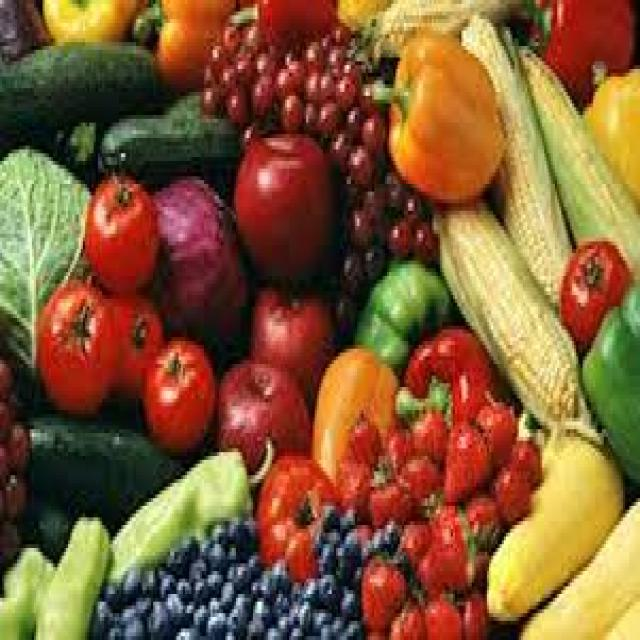organic waste: (432, 195, 595, 437), (459, 12, 570, 306), (514, 38, 638, 268), (485, 429, 623, 625), (104, 433, 270, 575), (366, 27, 504, 195), (28, 414, 194, 552), (0, 142, 89, 391), (153, 176, 249, 353), (519, 494, 638, 636), (96, 84, 240, 200), (0, 38, 153, 142), (232, 123, 334, 268), (306, 345, 396, 483), (580, 276, 638, 483), (351, 253, 451, 372), (215, 352, 312, 472), (525, 0, 633, 107), (34, 276, 115, 414), (396, 322, 500, 429), (253, 448, 336, 582), (249, 280, 336, 402), (81, 169, 159, 299), (32, 510, 108, 636), (130, 0, 234, 92), (138, 333, 215, 456), (580, 57, 638, 211), (102, 288, 164, 422), (557, 234, 629, 349), (368, 0, 510, 46), (0, 540, 55, 636), (225, 0, 334, 42), (43, 0, 138, 46), (442, 414, 485, 502), (427, 502, 472, 586), (362, 556, 406, 636), (489, 448, 529, 518), (0, 0, 49, 57), (477, 395, 512, 460), (462, 487, 498, 548), (368, 471, 406, 525), (332, 0, 396, 31), (412, 410, 448, 464), (402, 452, 442, 498), (350, 414, 380, 467), (332, 472, 368, 514), (423, 594, 459, 636), (389, 594, 423, 636), (457, 582, 485, 632), (385, 210, 412, 260), (2, 468, 28, 518), (512, 441, 542, 483), (66, 122, 93, 168), (378, 165, 404, 211), (361, 184, 387, 230), (342, 200, 370, 242), (385, 426, 410, 472), (417, 552, 444, 594), (338, 448, 370, 483), (8, 418, 30, 468), (400, 514, 425, 556), (249, 72, 270, 122), (223, 84, 249, 123), (349, 142, 372, 184), (0, 521, 21, 567), (363, 100, 382, 150), (412, 214, 434, 256), (363, 238, 385, 280), (327, 126, 349, 168), (223, 510, 245, 552), (402, 184, 425, 222), (278, 88, 302, 123), (342, 54, 362, 92), (342, 253, 364, 287), (138, 567, 162, 598), (336, 287, 355, 326), (317, 567, 336, 606), (147, 598, 166, 636), (166, 586, 183, 628), (251, 590, 270, 625), (340, 583, 362, 613), (225, 606, 247, 636), (204, 537, 226, 567), (204, 606, 226, 636), (0, 391, 13, 441), (285, 54, 302, 92), (232, 560, 251, 594), (336, 532, 359, 560), (117, 613, 145, 636), (346, 103, 364, 138), (326, 42, 344, 77), (232, 50, 253, 80), (380, 517, 398, 552), (122, 563, 140, 598), (334, 19, 351, 54), (158, 567, 175, 602), (255, 46, 277, 73), (230, 586, 251, 614), (336, 69, 351, 107), (242, 19, 262, 46), (217, 61, 234, 92), (255, 567, 272, 598), (317, 65, 332, 100), (342, 610, 362, 636), (207, 42, 226, 69), (202, 84, 221, 111), (317, 96, 334, 126), (302, 92, 317, 126), (302, 579, 319, 609), (270, 552, 287, 582), (304, 57, 317, 96), (180, 532, 198, 560), (342, 525, 358, 556), (289, 602, 308, 628), (132, 590, 153, 613), (92, 602, 108, 632), (276, 602, 290, 636), (104, 578, 121, 606), (274, 61, 287, 96), (221, 19, 234, 54), (247, 613, 266, 636), (202, 567, 221, 590), (362, 529, 378, 556), (204, 536, 219, 564), (166, 544, 181, 571), (247, 548, 260, 579), (338, 564, 353, 590), (245, 510, 258, 540), (208, 518, 228, 536), (191, 598, 204, 625), (177, 571, 190, 598), (317, 544, 332, 567), (340, 502, 357, 521), (330, 613, 344, 636), (272, 582, 287, 602), (321, 31, 334, 54), (321, 502, 334, 525), (306, 529, 319, 552), (202, 62, 215, 84), (221, 544, 238, 560), (176, 621, 194, 636), (289, 578, 300, 602), (189, 556, 202, 575), (315, 613, 325, 636), (328, 525, 340, 544), (119, 602, 134, 617), (191, 536, 202, 556), (304, 38, 315, 54), (262, 625, 278, 636), (0, 444, 6, 471), (183, 602, 191, 621), (208, 598, 219, 609)
